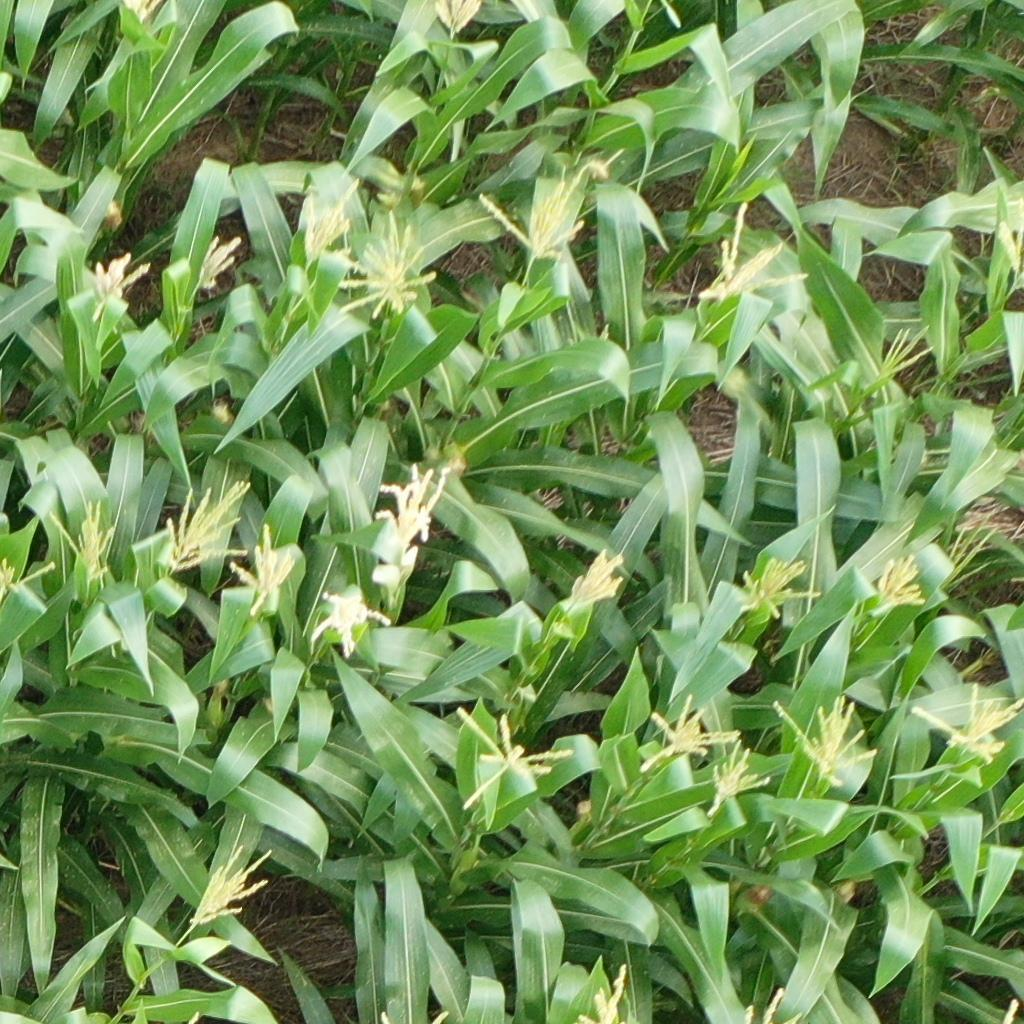Tassel: (454, 703, 576, 812), (476, 162, 590, 264), (770, 687, 880, 791), (695, 199, 808, 300), (339, 212, 438, 321), (907, 681, 1023, 769), (161, 479, 251, 575), (637, 694, 747, 771), (189, 844, 274, 927), (229, 520, 297, 621), (372, 461, 448, 545), (44, 497, 117, 583), (738, 552, 822, 624), (306, 586, 393, 655), (703, 738, 774, 822), (302, 176, 360, 267), (942, 509, 1000, 597), (561, 547, 630, 616), (88, 253, 150, 324), (866, 551, 928, 617), (576, 959, 635, 1024), (882, 324, 933, 383), (1, 553, 57, 602), (993, 193, 1024, 280), (195, 237, 242, 291), (743, 983, 804, 1024), (432, 1, 484, 39), (120, 1, 165, 24)
